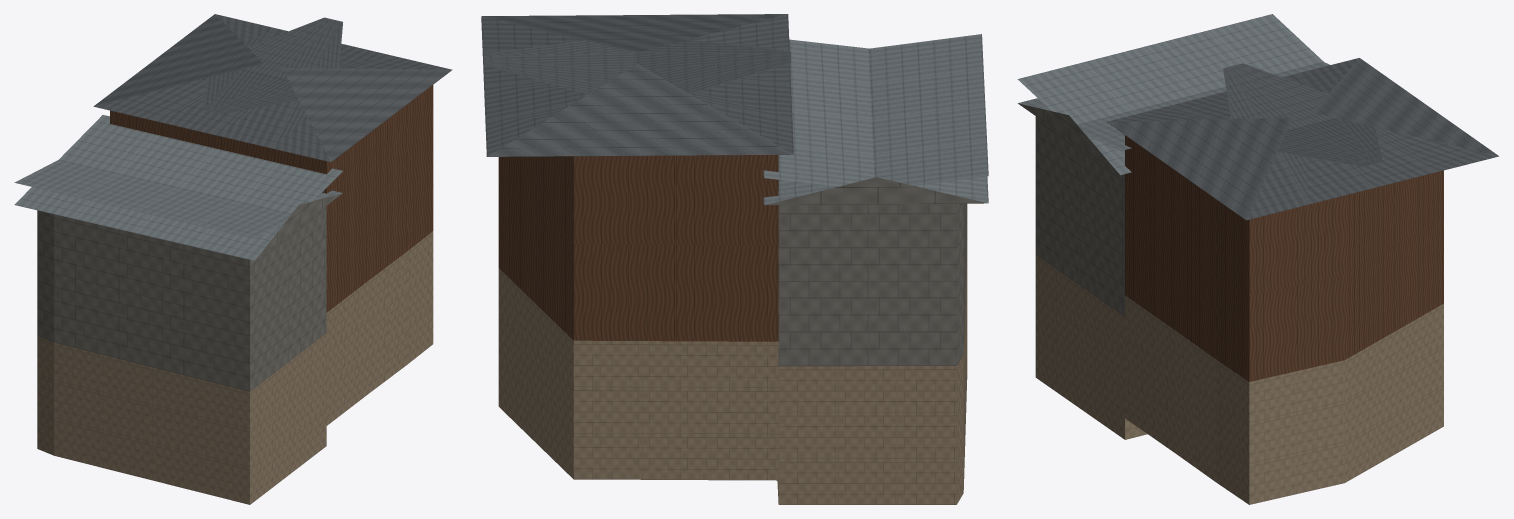
Rendered from bld_c21_44_381.gltf.
3 renders of one model, left to right at view 1: azimuth 30°, elevation 25°; view 2: azimuth 150°, elevation 25°; view 3: azimuth 270°, elevation 25°, orthographic. The views are drawn at different scales.
Parts seen in each view (by area): view 1: bld_c21_44_381; view 2: bld_c21_44_381; view 3: bld_c21_44_381.
Boxes of the visible parts, left/top/right/bottom form: bld_c21_44_381: left=14, top=14, right=452, bottom=504; bld_c21_44_381: left=481, top=14, right=988, bottom=504; bld_c21_44_381: left=1017, top=14, right=1498, bottom=504.
Size of the model in its own units: 20.09 by 14.1 by 18.13.
Materials: 6 (6 with a texture image).
